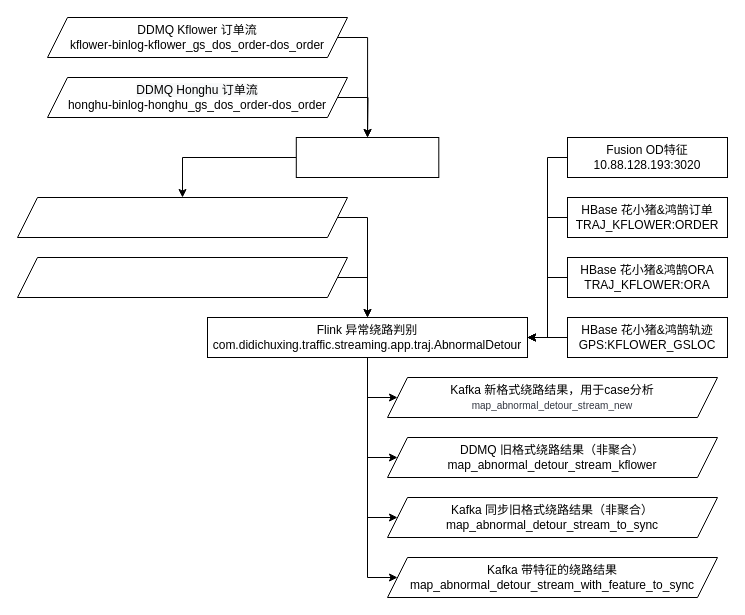
The diagram is 745 pixels wide and 615 high, and some of its shapes have lost their labels. The centre of each missing label's shape, as x and y in pixels:
"DDMQ 订单流 map_traffic_kflower_with_honghu_dos_order_merged" goes at point (182, 217).
"FlinkSQL 订单流合并" goes at point (367, 157).
"Kafka ORA流 road_abnormal_uv_stream" goes at point (182, 277).
